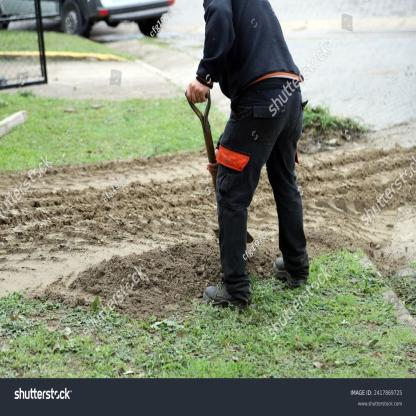bota: (201, 278, 252, 311), (270, 254, 310, 288)
